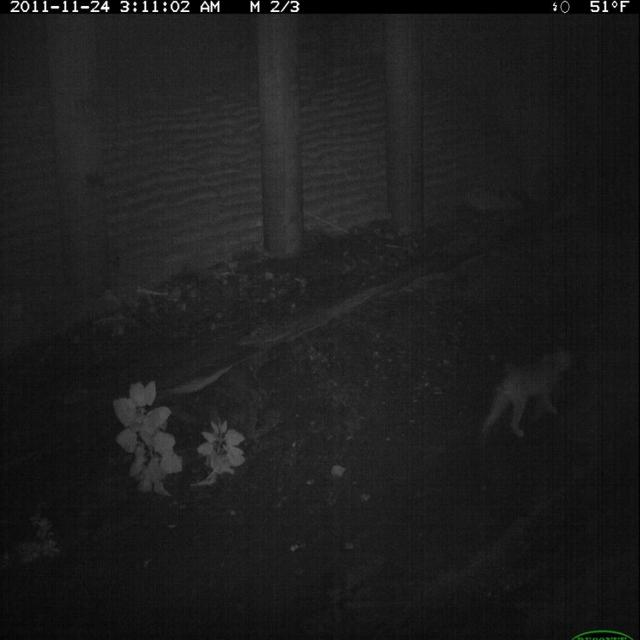bobcat: (475, 339, 577, 451)
